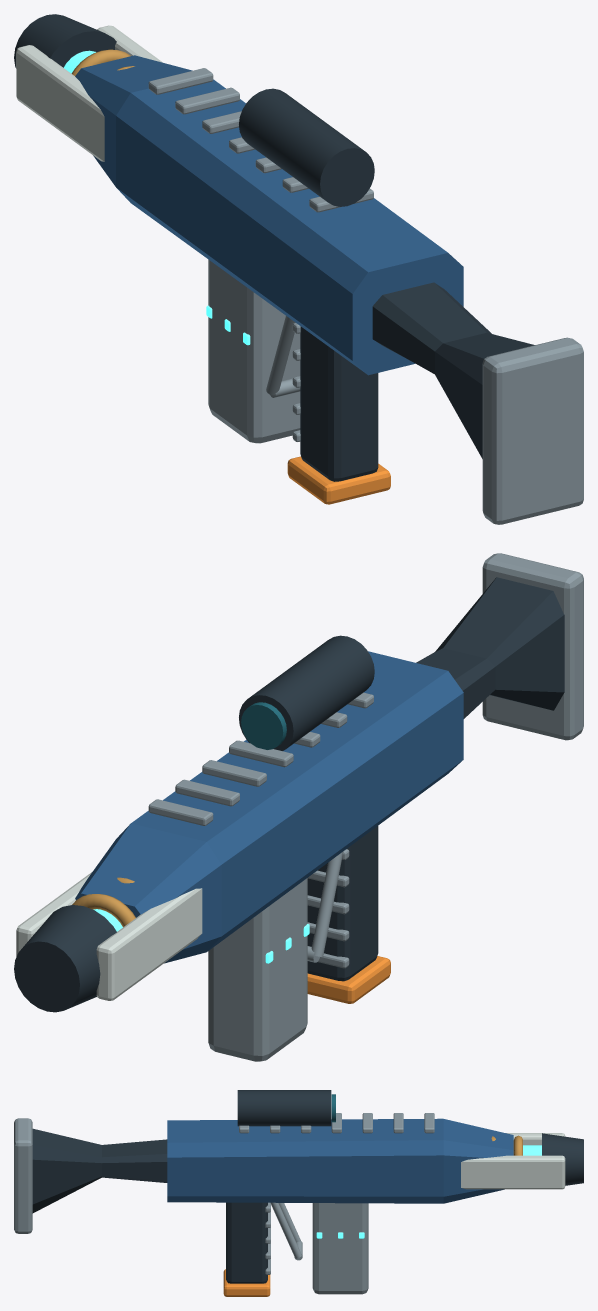
The model's file is tximista_carbine.glb.
The picture shows the model from 3 angles, top to bottom: view 1: azimuth 30°, elevation 25°; view 2: azimuth 150°, elevation 25°; view 3: azimuth 270°, elevation 25°; orthographic projection. The views are drawn at different scales.
Parts seen in each view (by area): view 1: tximista_carbine_mesh, Pulse_emitter_mesh; view 2: tximista_carbine_mesh, Pulse_emitter_mesh; view 3: tximista_carbine_mesh, Pulse_emitter_mesh.
Part boxes in pixels (box(x1,y1,x2,y2)): tximista_carbine_mesh: box(75, 55, 583, 524); Pulse_emitter_mesh: box(14, 14, 162, 161); tximista_carbine_mesh: box(75, 553, 583, 1061); Pulse_emitter_mesh: box(14, 872, 202, 1012); tximista_carbine_mesh: box(14, 1090, 513, 1296); Pulse_emitter_mesh: box(461, 1133, 583, 1189).
Size of the model in its own units: 0.158 by 0.4644 by 1.22.
